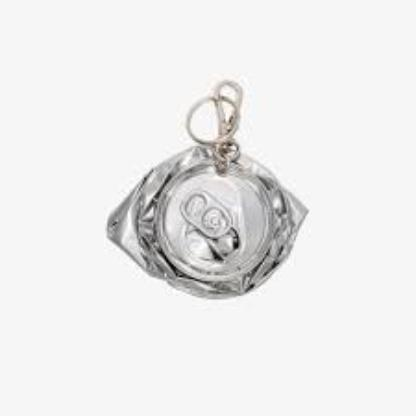Can: (100, 141, 310, 303)
